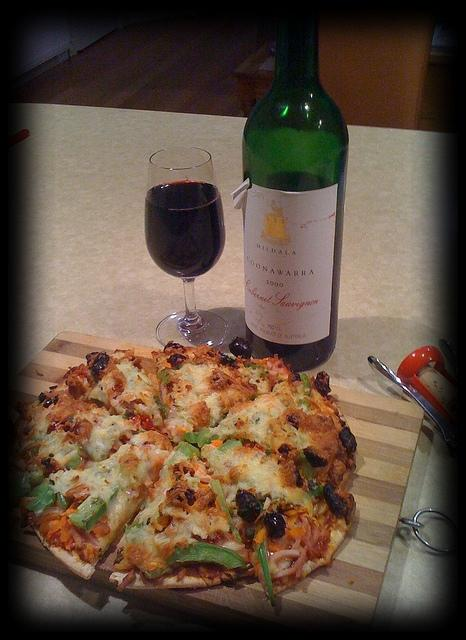bell pepper: (67, 488, 118, 532), (165, 542, 244, 570), (210, 479, 242, 543), (258, 540, 276, 606), (24, 486, 54, 511), (176, 440, 202, 460), (197, 427, 219, 448), (217, 439, 243, 454), (301, 458, 317, 482), (125, 522, 141, 544), (301, 374, 311, 396), (57, 492, 69, 510), (159, 368, 173, 383), (183, 432, 198, 443), (159, 406, 169, 418), (248, 364, 256, 369)
